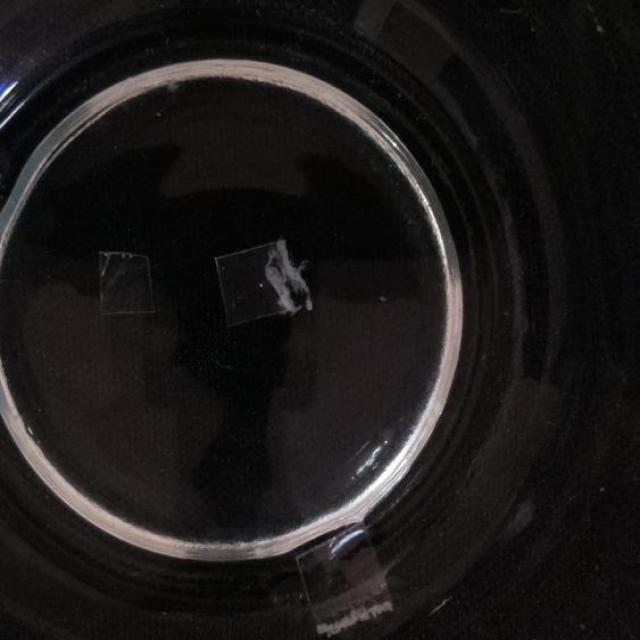fiber: (293, 531, 394, 633), (212, 244, 312, 323), (97, 251, 158, 320), (335, 442, 389, 480), (427, 594, 465, 635)
